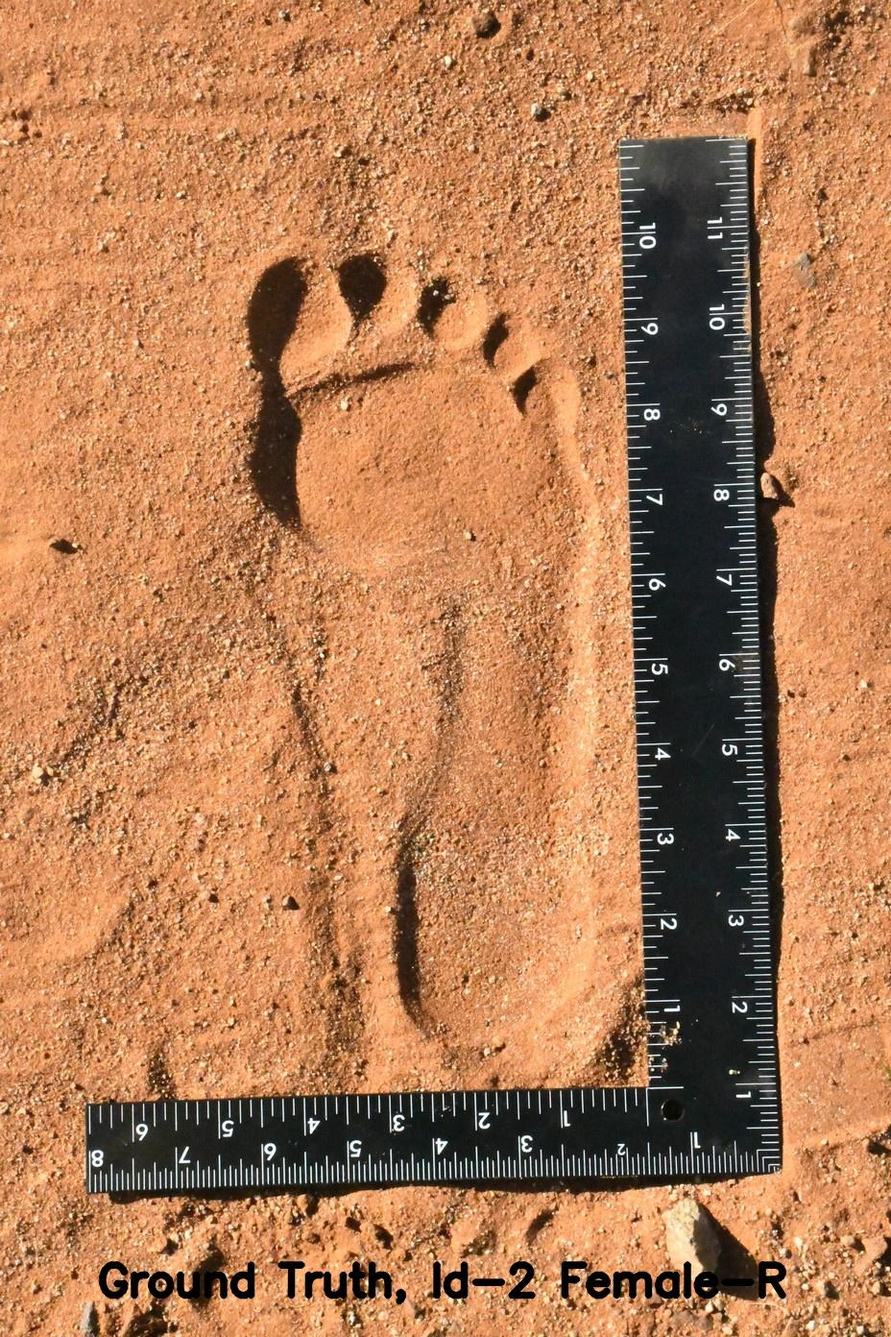human_foot_print: (193, 219, 615, 1072)
